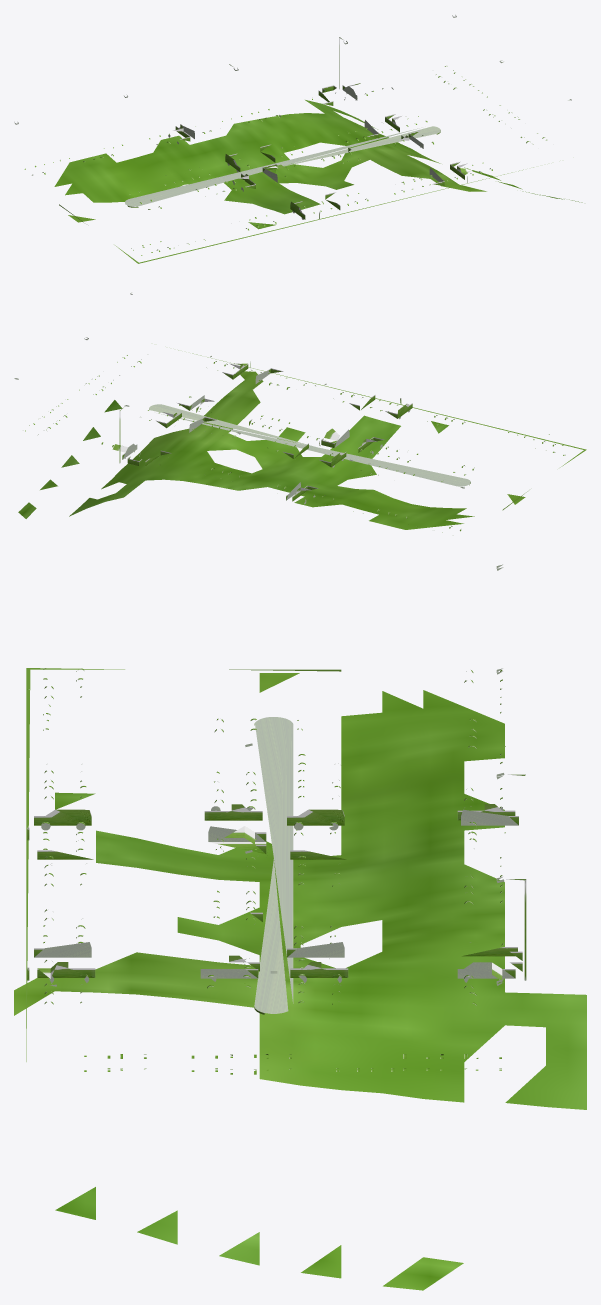
The model's file is parking terrain_outline.obj.
3 renders of one model, top to bottom at view 1: azimuth 30°, elevation 25°; view 2: azimuth 150°, elevation 25°; view 3: azimuth 270°, elevation 25°, orthographic. The views are drawn at different scales.
Parts seen in each view (by area): view 1: parkingoutline_Factory.007; view 2: parkingoutline_Factory.007; view 3: parkingoutline_Factory.007.
Boxes of the visible parts, bbox=[...] form: parkingoutline_Factory.007: bbox=[14, 15, 582, 263]; parkingoutline_Factory.007: bbox=[14, 292, 586, 532]; parkingoutline_Factory.007: bbox=[14, 564, 586, 1290].
Bounding box in the file's own units: 2507 × 819 × 1400.
